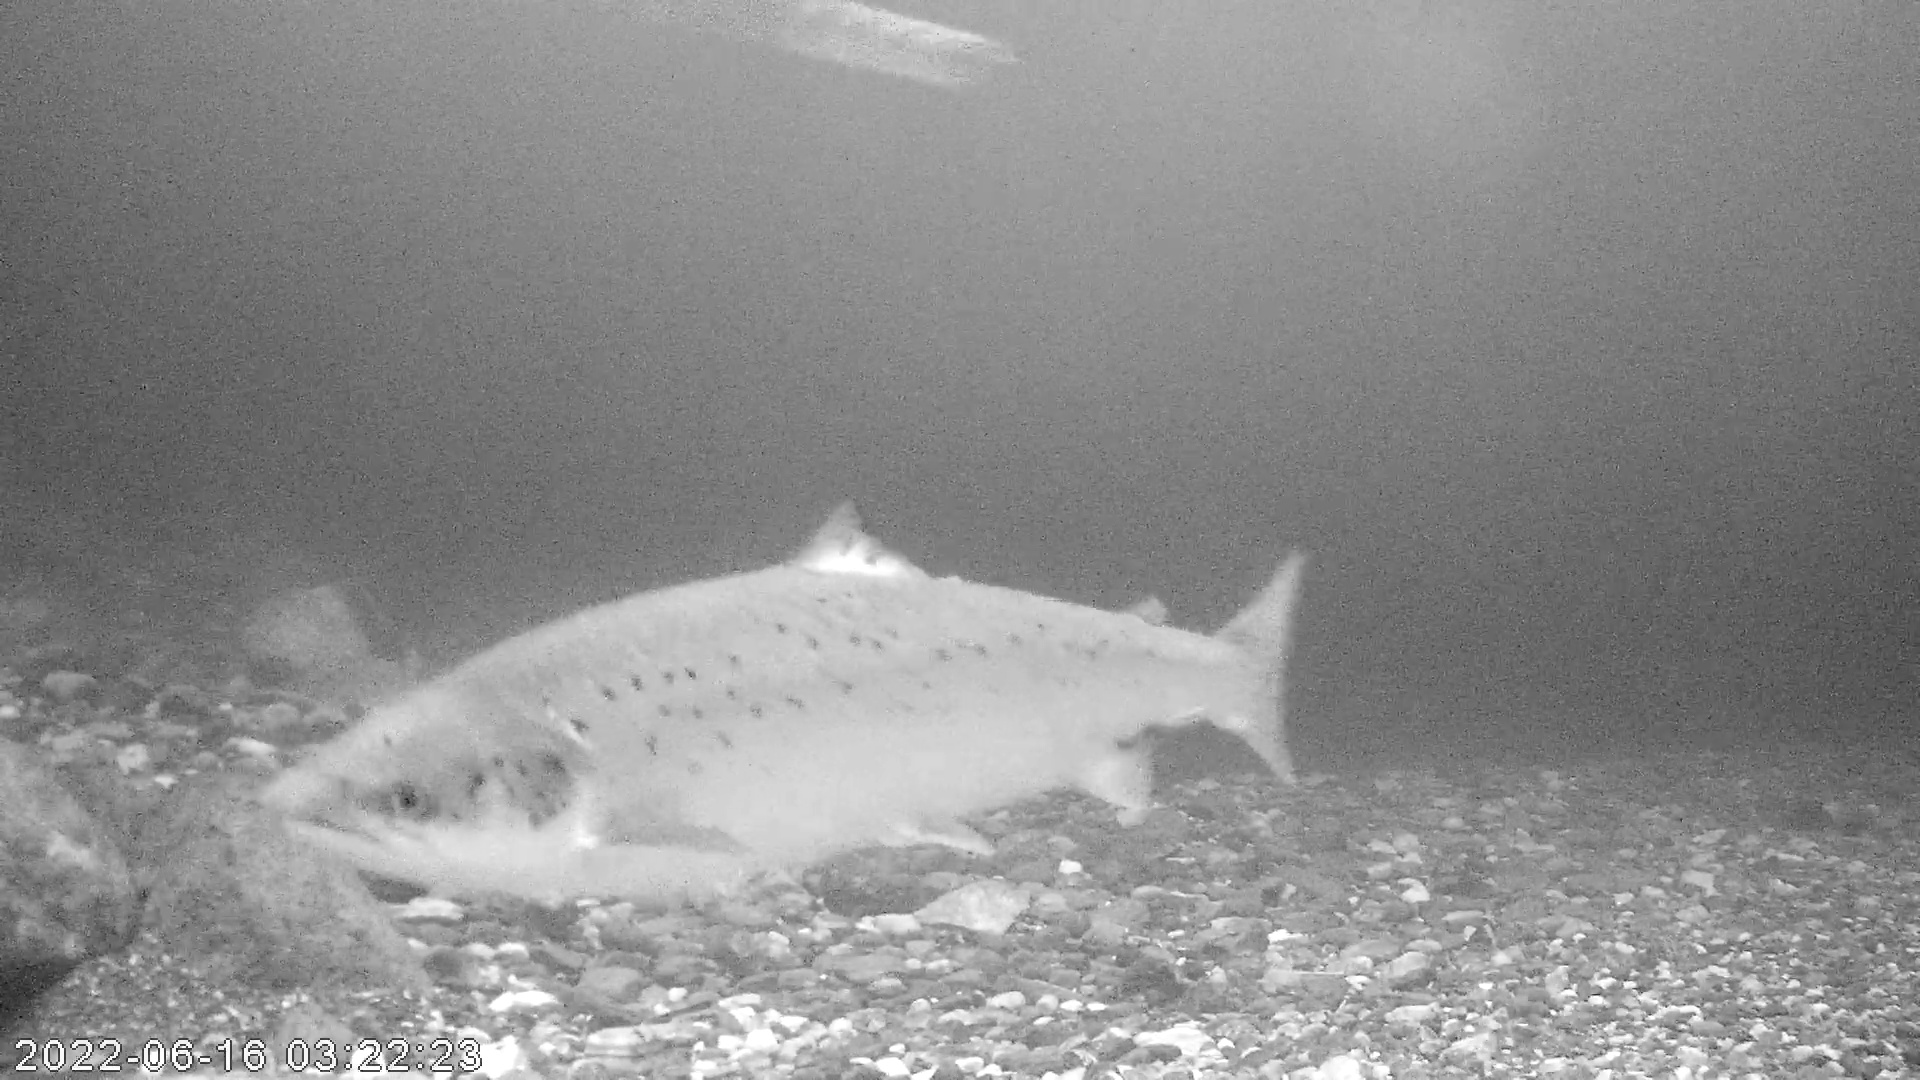salmon: (262, 495, 1302, 907)
